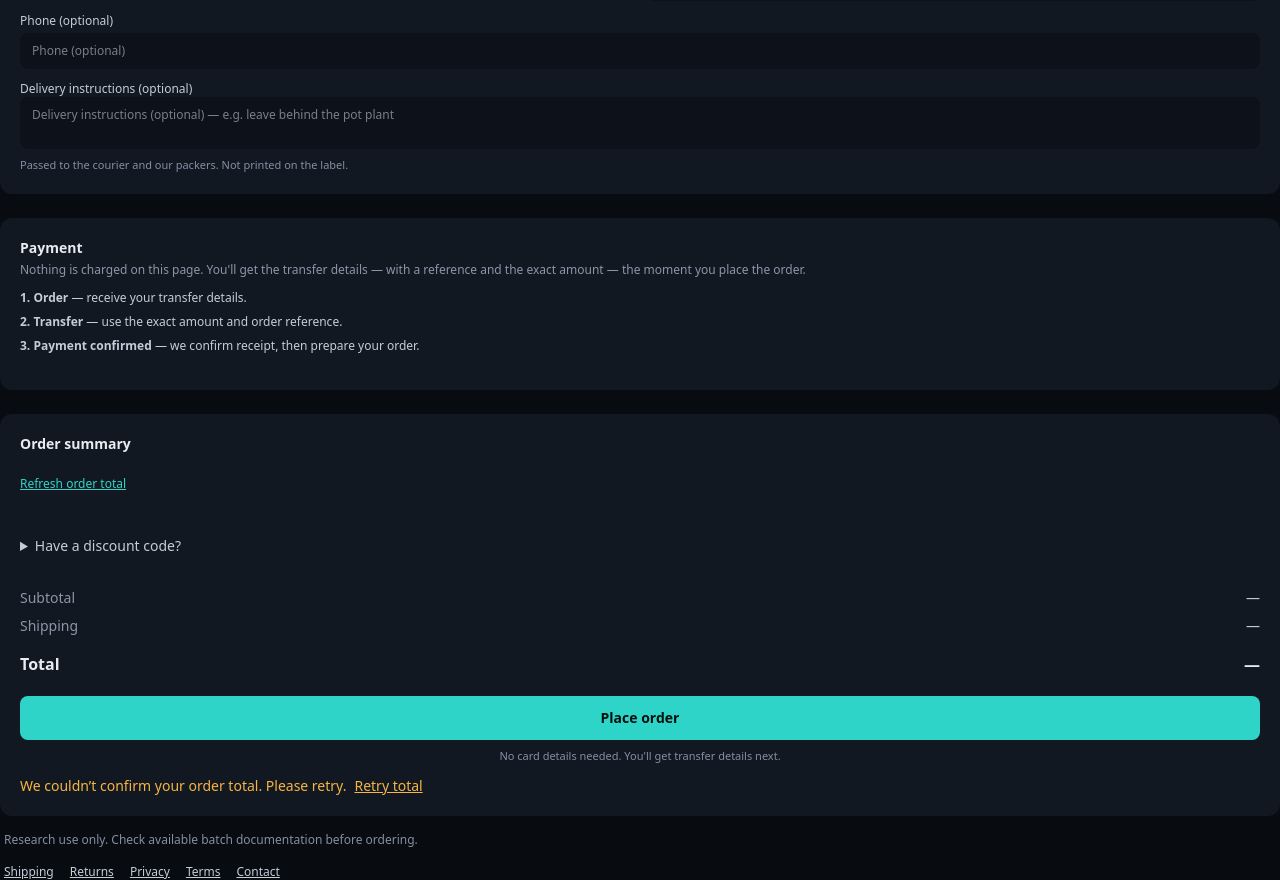
Scenario: shows a failed quote with an actionable retry
The width and height of the screenshot is (1280, 880).
(page scrolled)
Click the button "Retry total" at point(389, 786), box [354,776,423,796]
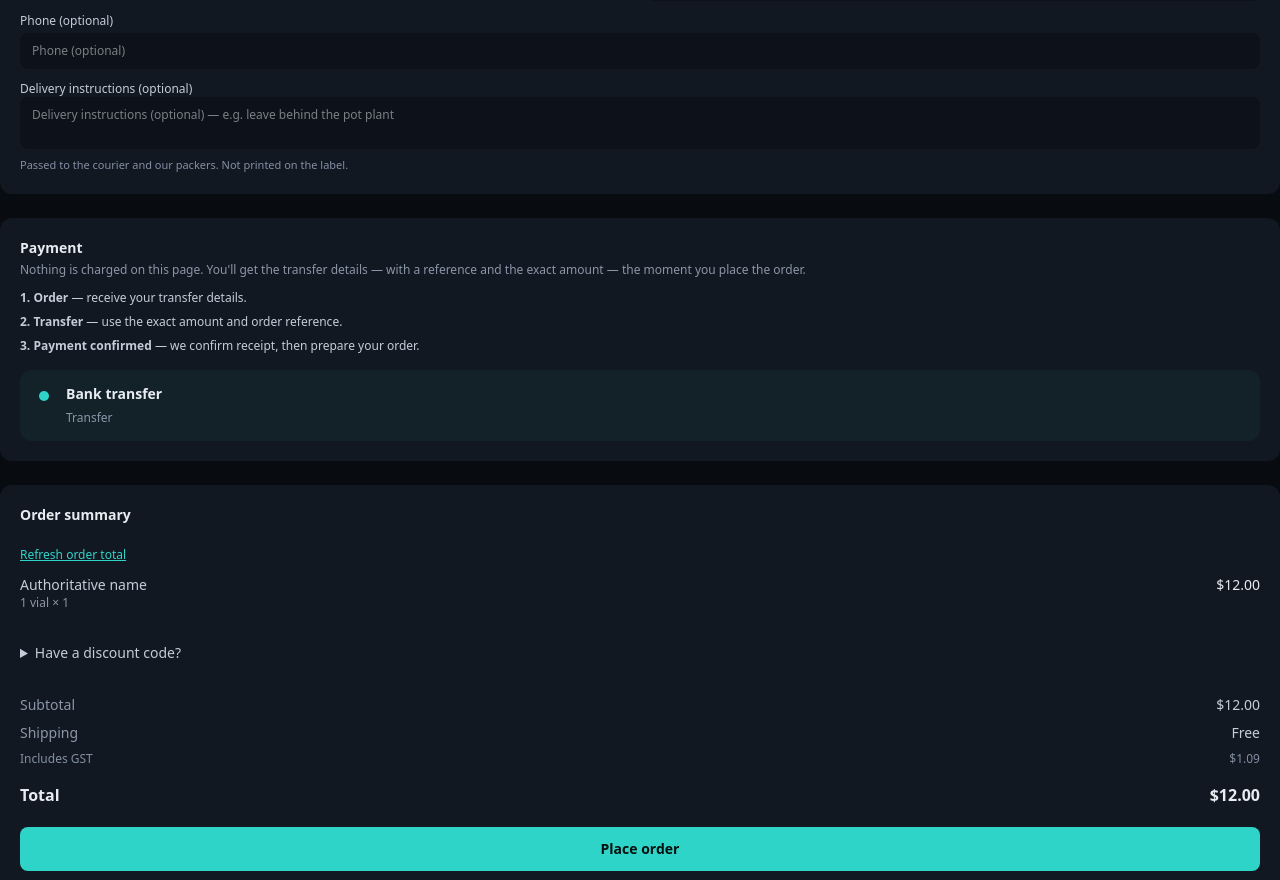
Expected: the text "Authoritative name" is shown, [20,575,147,594]
Expected: the button "Place order" is enabled, [20,827,1260,871]
